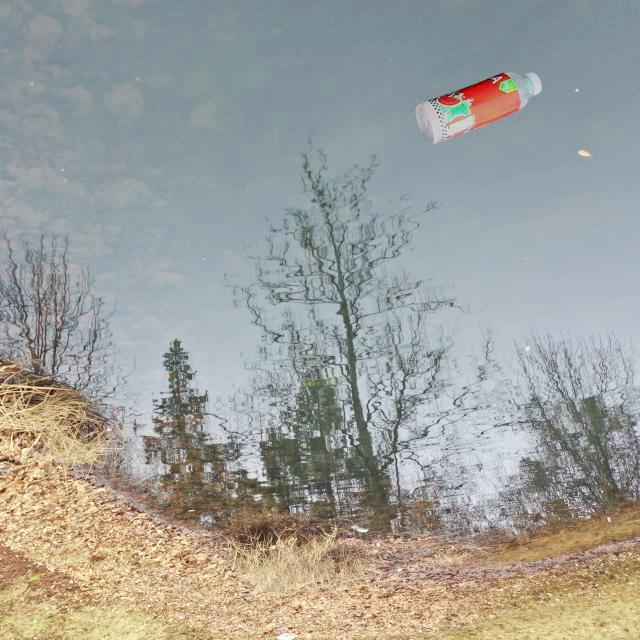Plastic: (412, 64, 545, 148)
